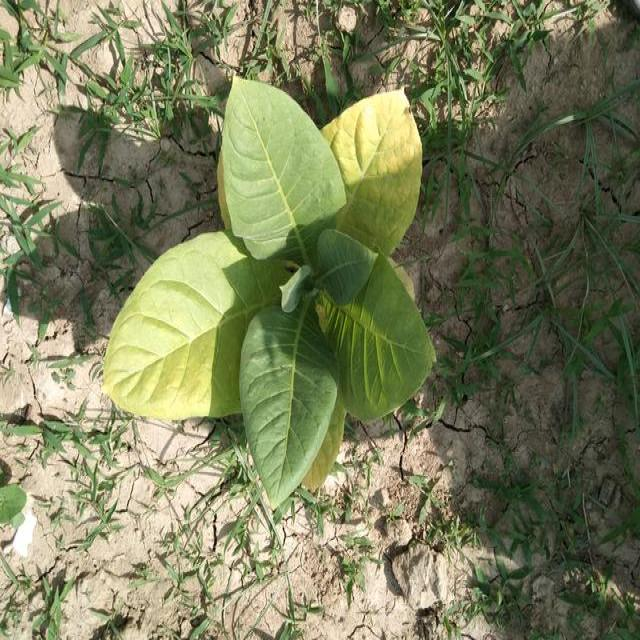crop: (103, 81, 440, 502)
